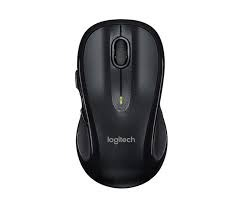mouse: (68, 21, 180, 189)
